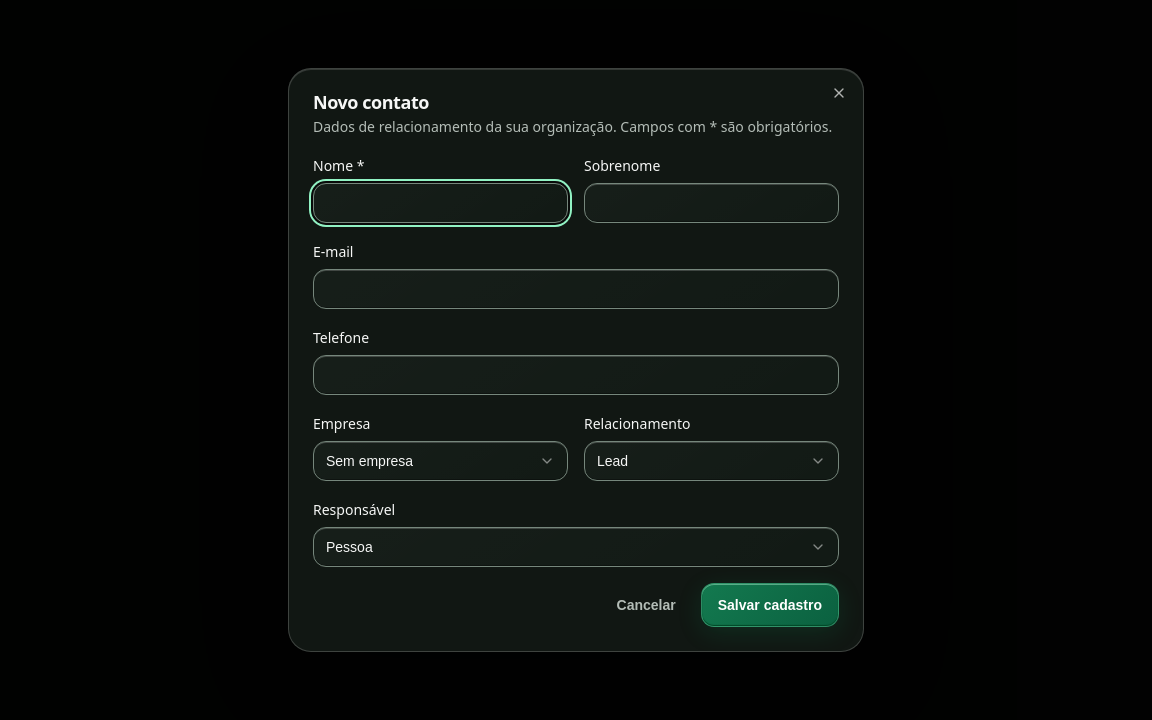
Test: salvamento de cadastro › falha comunicada preserva preenchimento e não fecha o formulário
Type "Mariana" into the field labelled "Nome *" at (440, 203), box top-left (313, 183), bottom-right (568, 223)
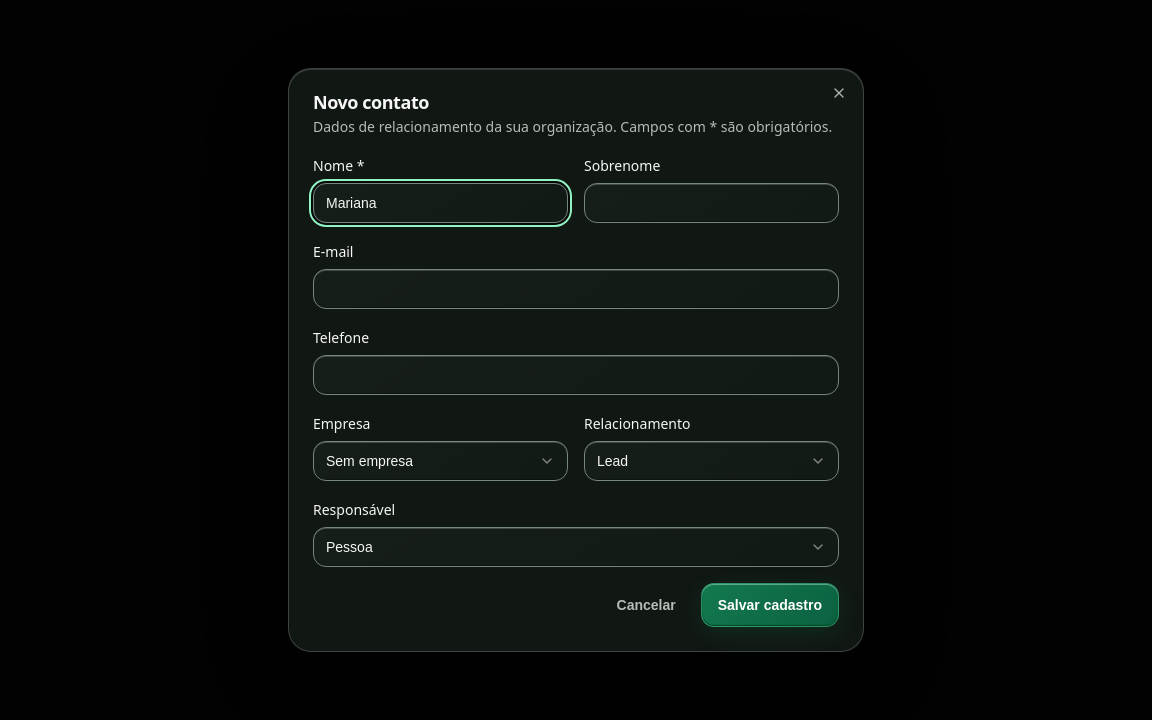
Type "mariana@example.com" into the field labelled "E-mail" at (576, 289), box top-left (313, 269), bottom-right (839, 309)
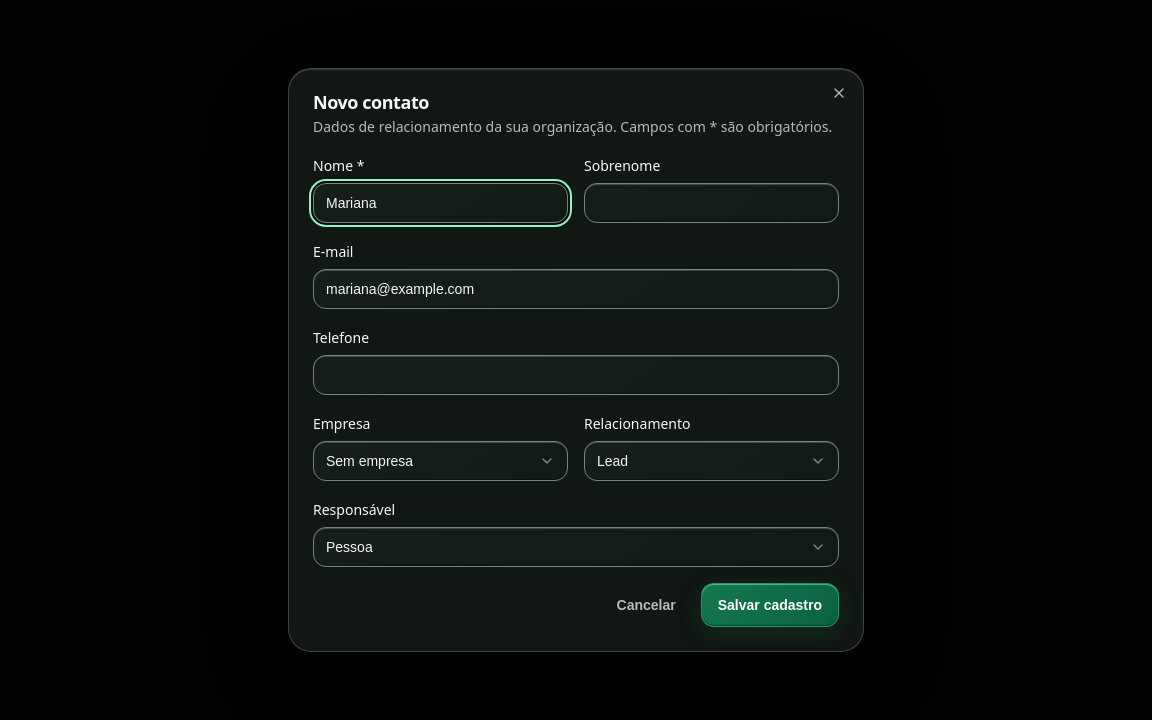
Click the button "Salvar cadastro" at (770, 605), box top-left (701, 583), bottom-right (839, 627)
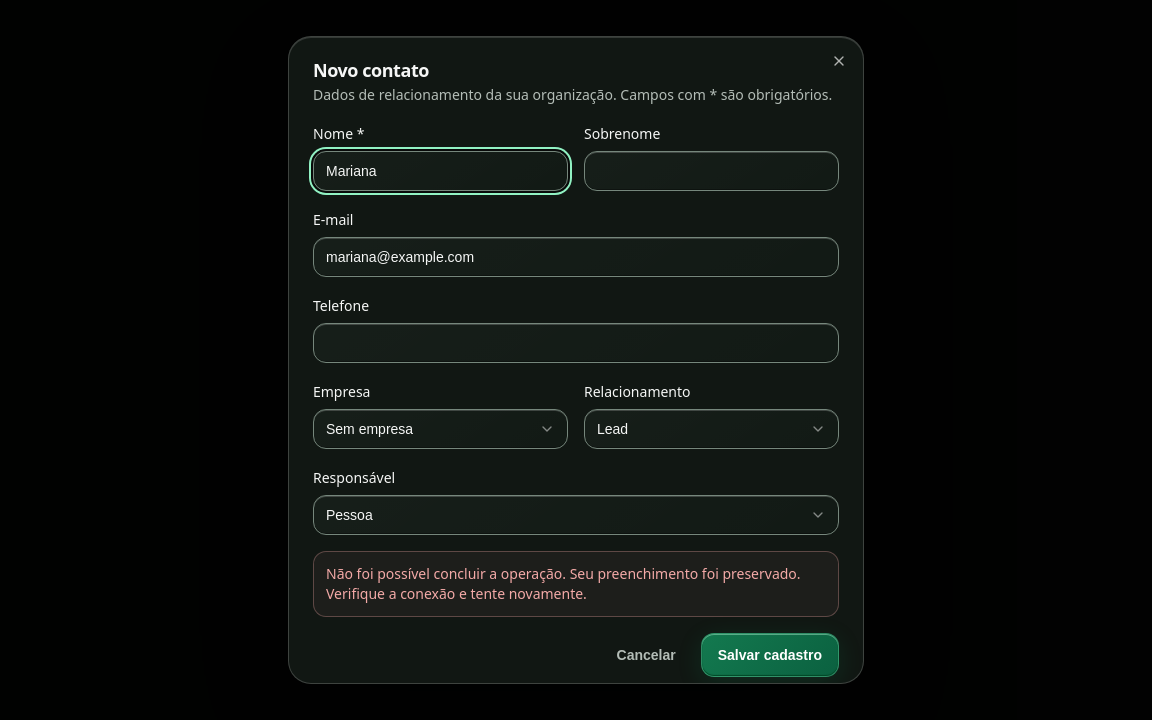
Now the message shows "Seu preenchimento foi preservado", box top-left (326, 564), bottom-right (801, 603)
